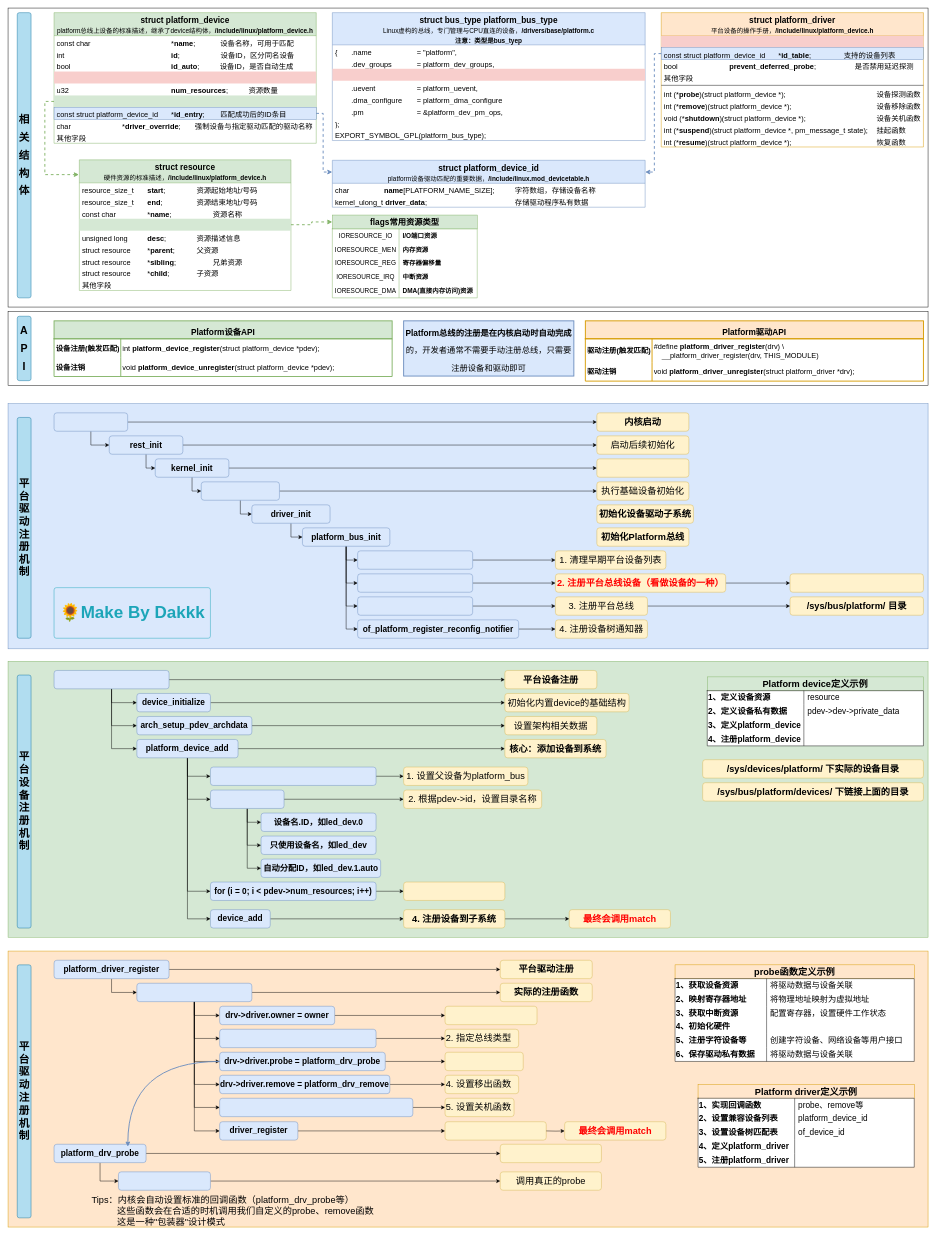
This 936x1236 diagram has some shape labels left out. The shapes that lost their labels are listed below. From the top down, each one's centre as x and y in pixels, then its label:
At point 792,41: "struct device_driver driver ; 继承的驱动结构体".
At point 185,77: "struct device dev ; 继承device结构体！！".
At point 488,74: ".match = platform_match, 核心，匹配函数！！！".
At point 185,101: "struct resource * resource ; 资源数组指针".
At point 185,224: "unsigned long flags ; 资源类型标志".
At point 91,421: "start_kernel".
At point 642,467: "内核初始化线程".
At point 240,490: "do_basic_setup".
At point 415,559: "early_platform_cleanup".
At point 415,582: "device_register".
At point 856,582: "/sys/devices/platform/ 目录".
At point 415,605: "bus_register".
At point 111,679: "platform_device_register".
At point 293,776: "pdev->dev.parent = &platform_bus".
At point 247,799: "dev_set_name".
At point 454,891: "3. 处理pdev的资源".
At point 194,992: "__platform_driver_register".
At point 491,1015: "1. 驱动关联当前模块".
At point 297,1038: "drv->driver.bus = &platform_bus_type".
At point 484,1061: "3. 设置probe函数".
At point 316,1107: "drv->driver.shutdown = platform_drv_shutdown".
At point 495,1130: "6. 注册驱动到子系统".
At point 550,1153: "真正probe的包装函数".
At point 164,1180: "ret = drv->probe(dev)".
